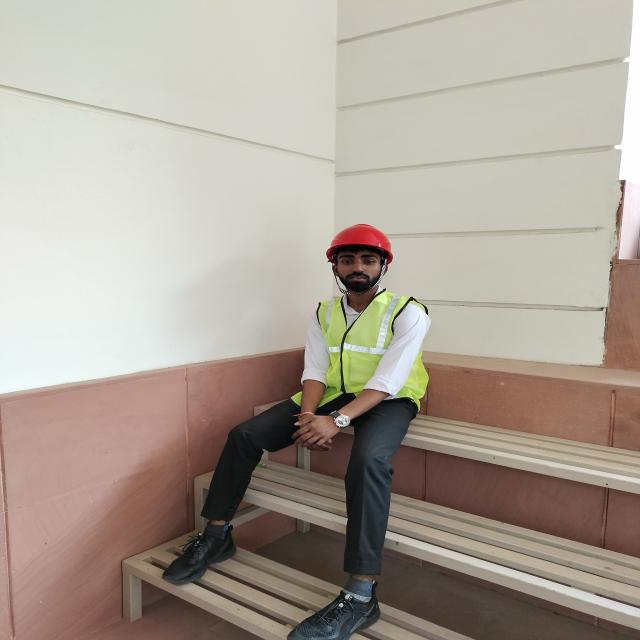safe: (285, 224, 429, 637)
